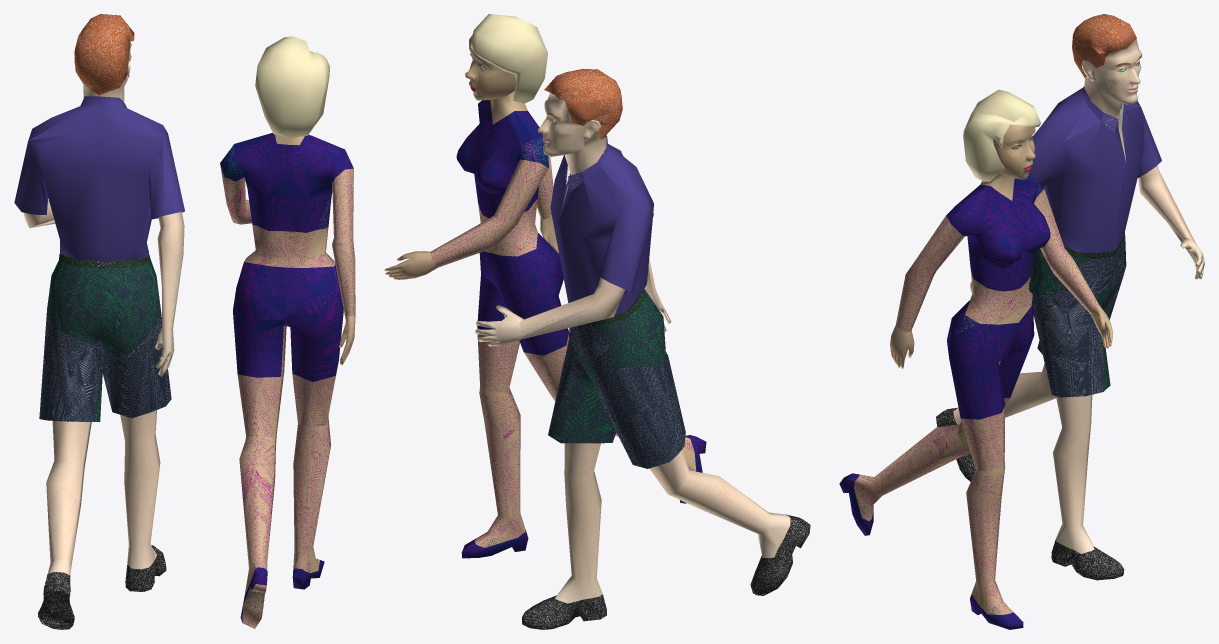
The model's file is couplewalk.dae.
The picture shows the model from 3 angles, left to right: view 1: azimuth 30°, elevation 25°; view 2: azimuth 150°, elevation 25°; view 3: azimuth 270°, elevation 25°; orthographic projection. The views are drawn at different scales.
Parts seen in each view (by area): view 1: Component_2 (×12), Component_3 (×14); view 2: Component_2 (×16), Component_3 (×13); view 3: Component_3 (×12), Component_2 (×11).
Boxes of the visible parts, <box> form: Component_2 (×12): <box>14,14,184,629</box>; Component_3 (×14): <box>220,36,355,581</box>; Component_2 (×16): <box>475,68,810,629</box>; Component_3 (×13): <box>384,14,569,547</box>; Component_3 (×12): <box>854,89,1112,614</box>; Component_2 (×11): <box>936,14,1195,580</box>.
Size of the model in its own units: 44.42 by 43.28 by 70.03.
